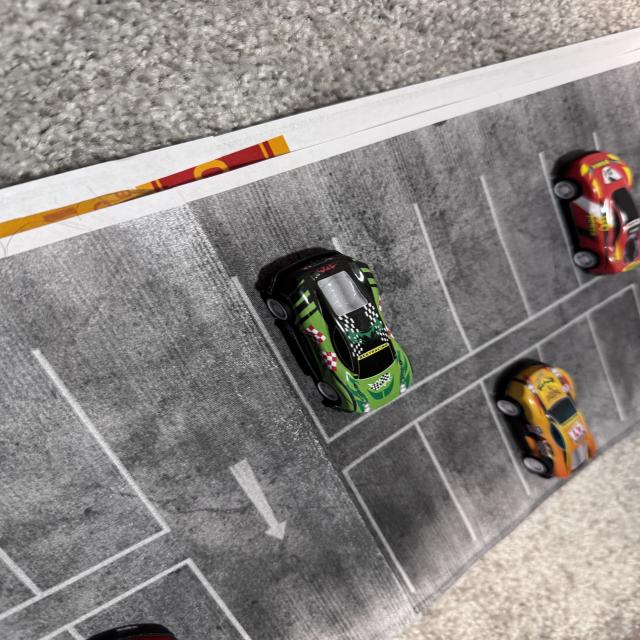Car: (458, 316, 640, 556), (219, 234, 411, 386), (542, 127, 640, 328)
